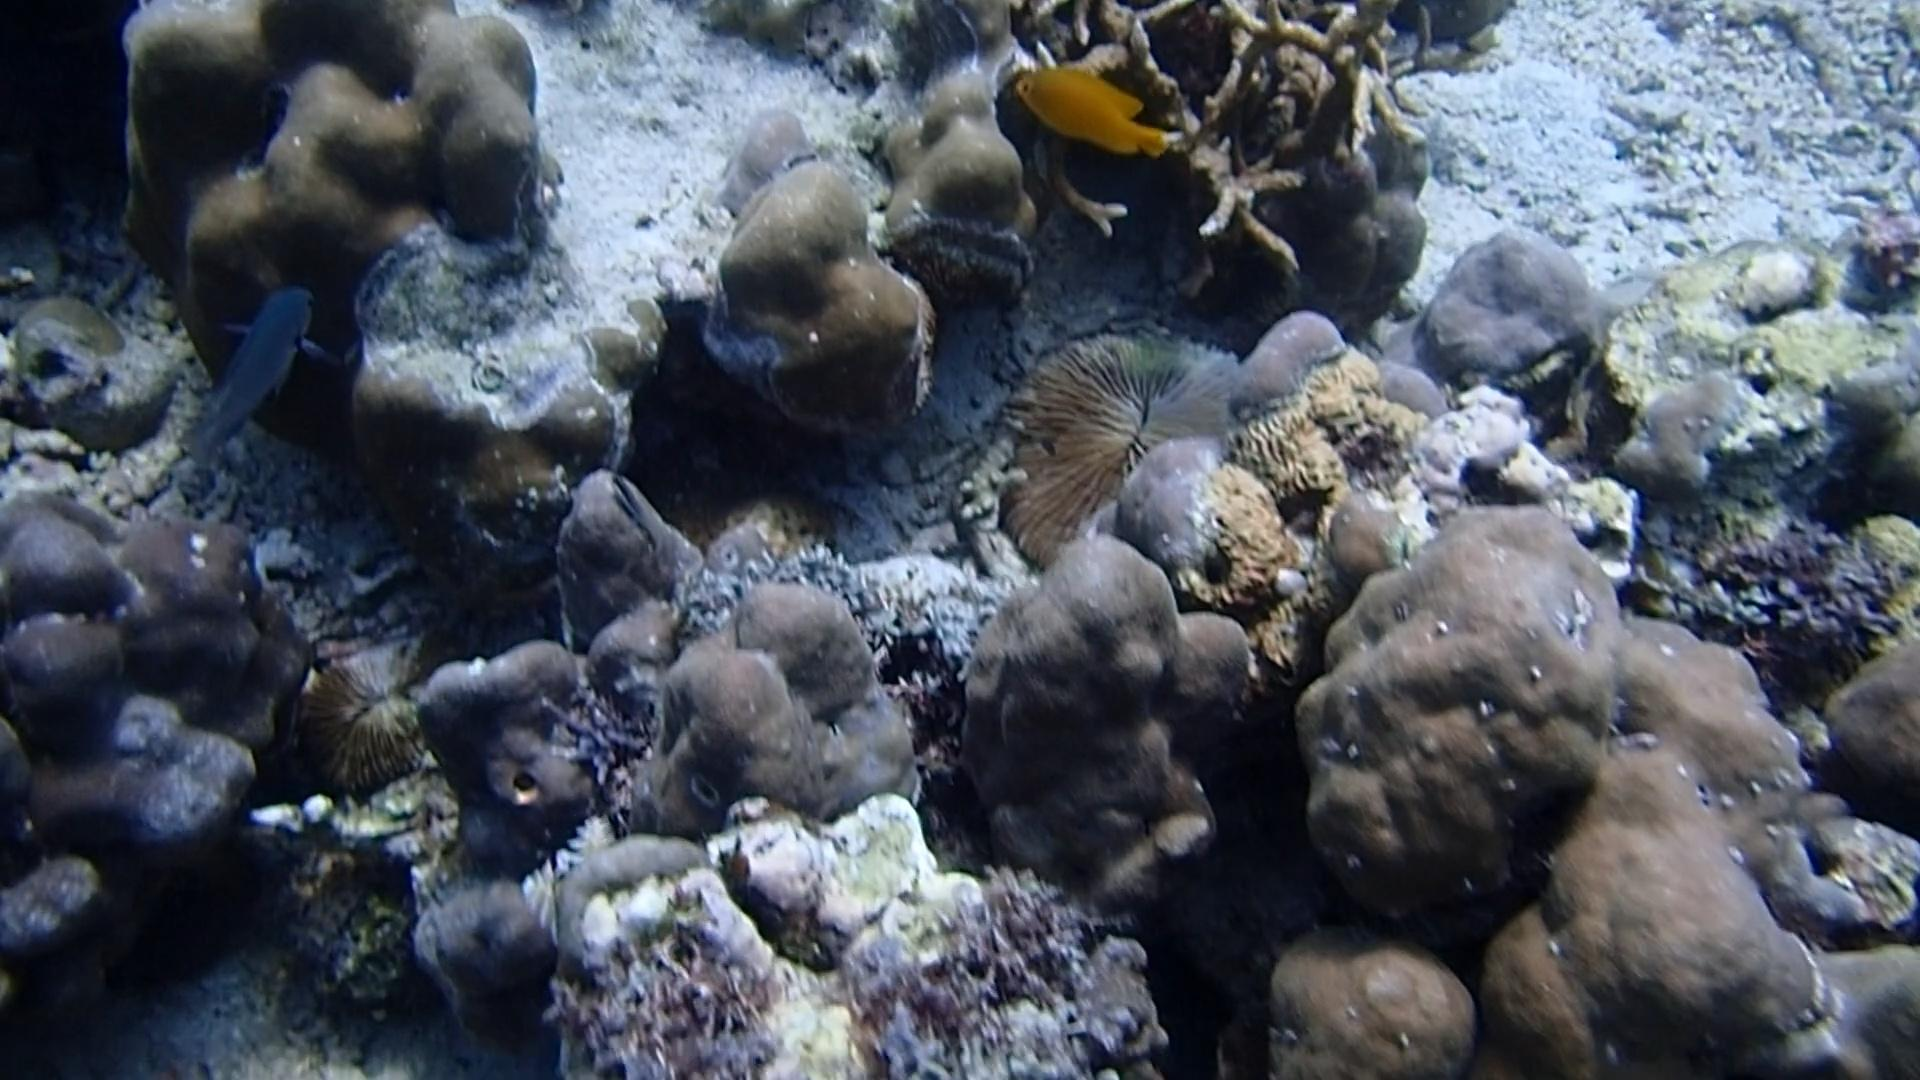Blue Fish Two: (171, 265, 326, 480)
Yellow Fish: (1000, 54, 1184, 167)
